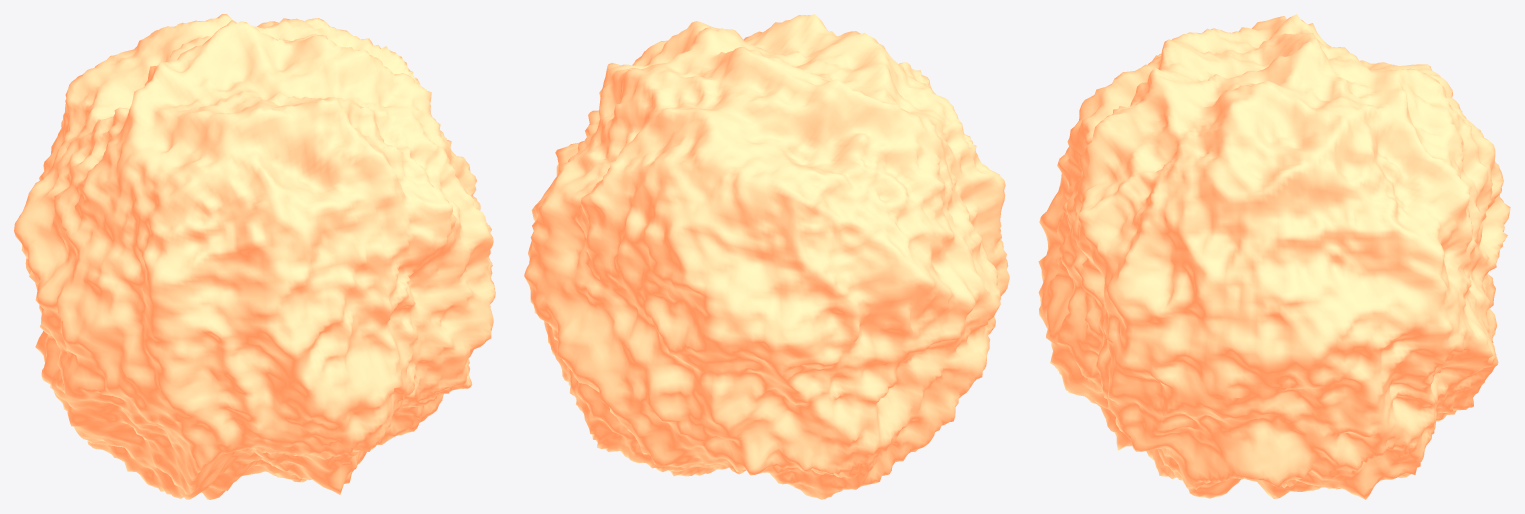
Rendered from MeteoriteM1.fbx.
3 renders of one model, left to right at view 1: azimuth 30°, elevation 25°; view 2: azimuth 150°, elevation 25°; view 3: azimuth 270°, elevation 25°, orthographic.
Visible parts, largest first — view 1: Lava Asteroid; view 2: Lava Asteroid; view 3: Lava Asteroid.
Boxes of the visible parts, x1,y1,x2,y2 form: Lava Asteroid: (14, 14, 495, 499); Lava Asteroid: (524, 14, 1009, 499); Lava Asteroid: (1038, 14, 1510, 499).
Size of the model in its own units: 201 by 199 by 192.
